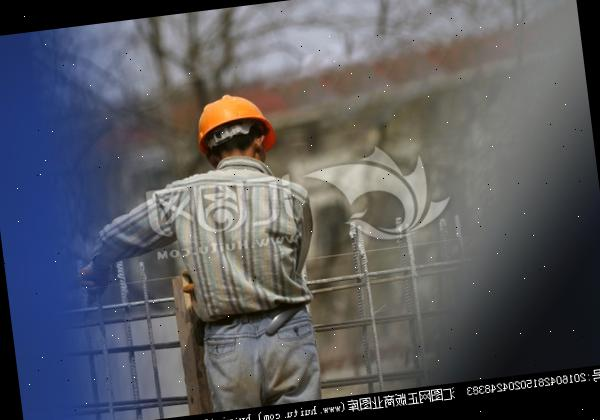helmet: (195, 90, 274, 149)
no_wear: (163, 162, 314, 331)
